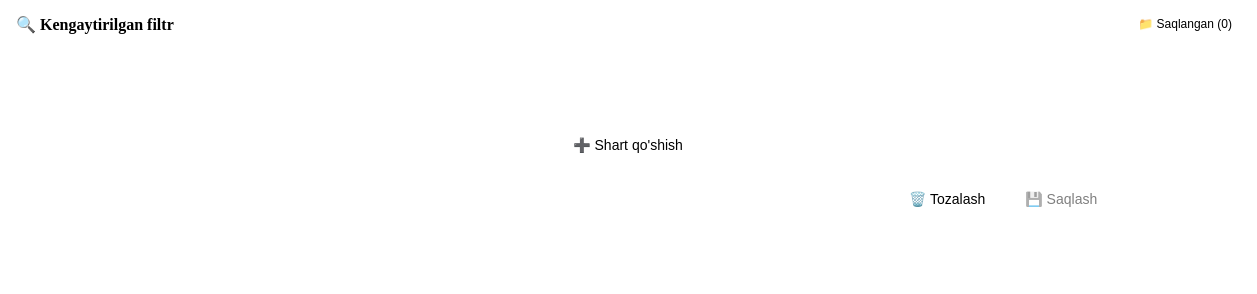
Test case: Search Module › AdvancedFilters › allows adding filter conditions
The image size is (1257, 294).
Step 1. Click the button "➕ Shart qo'shish" → (628, 145), box [16, 125, 1240, 165]
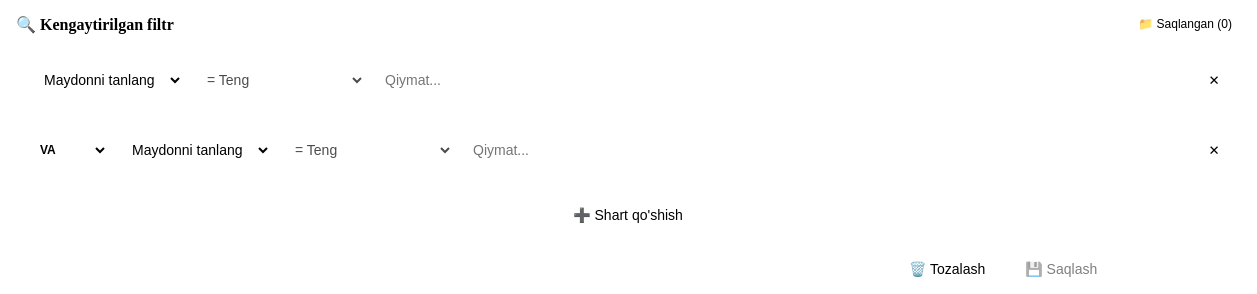
Check: the number of elements with class "filter-condition" is 2, box [28, 63, 1228, 97]; [28, 133, 1228, 167]
